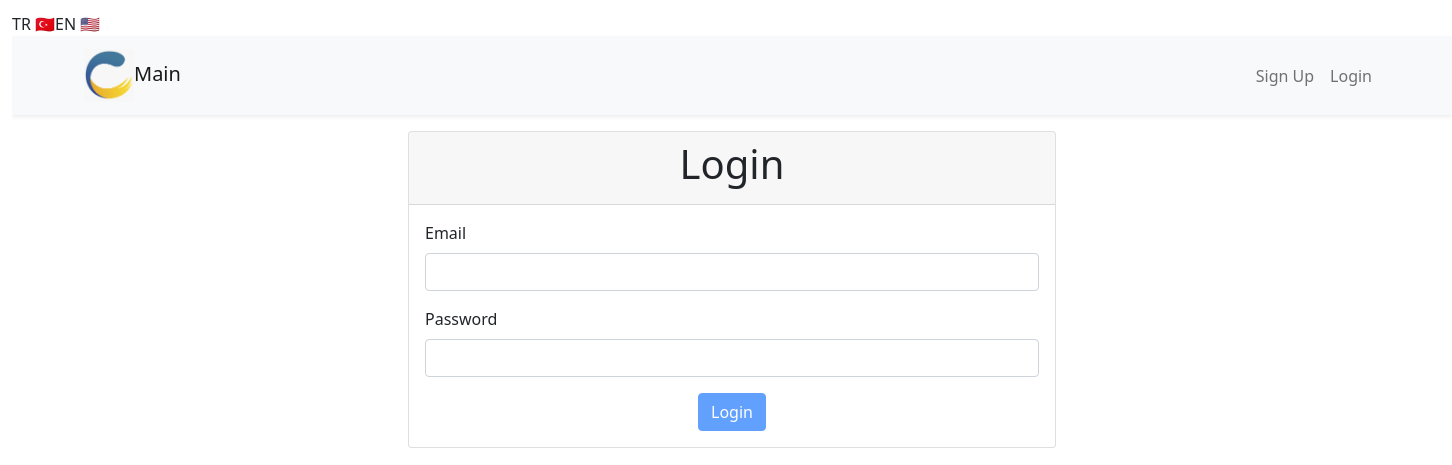
Test: Login › redirects to homepage after successful login
Type "user5@mail.com" into the field labelled "Email" at (732, 272), box [425,253,1039,291]
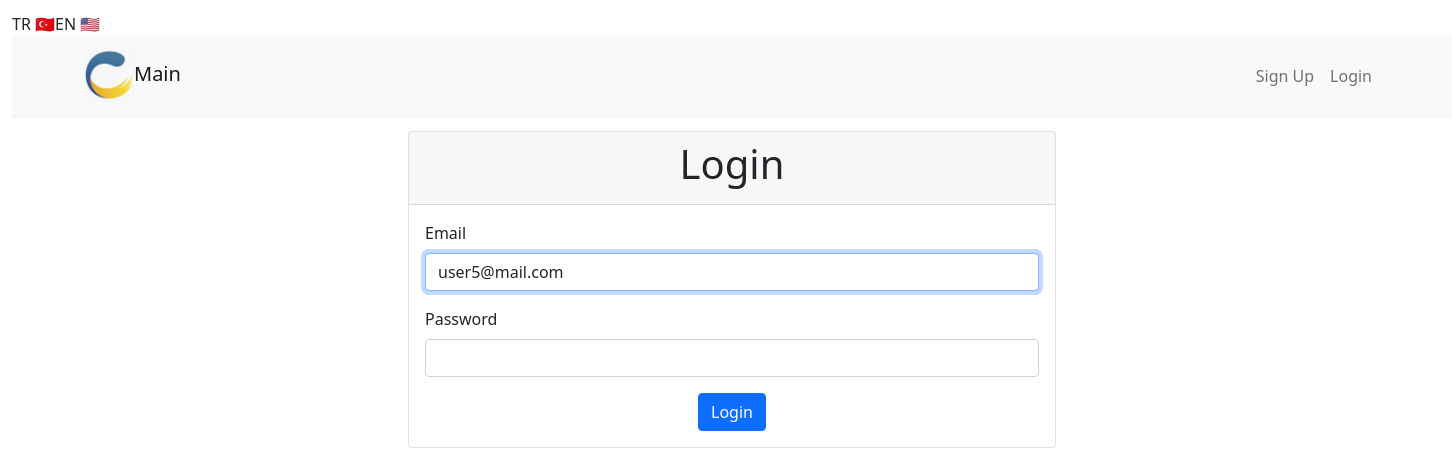
Type "P4ssword" into the password field labelled "Password" at (732, 358), box [425,339,1039,377]
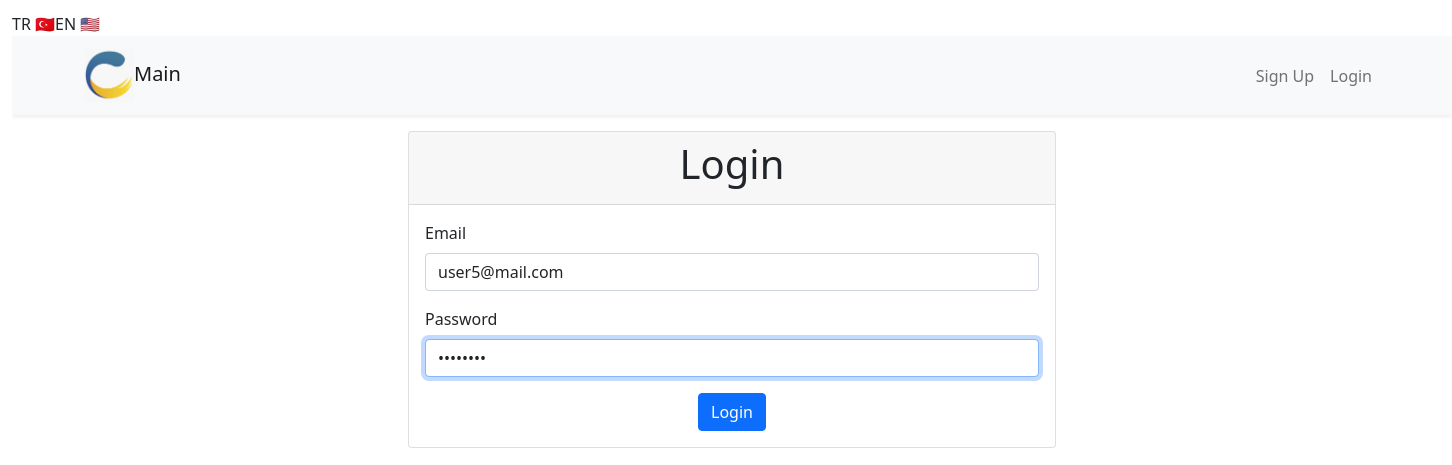
Click the button "Login" at (732, 412), box [698,393,766,431]
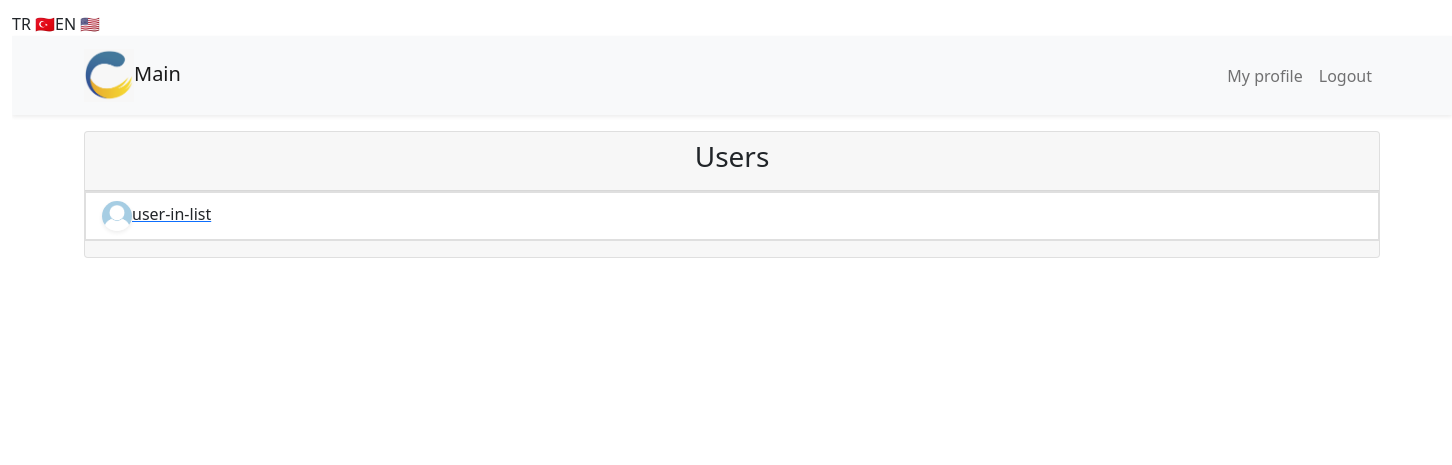
Now the element with test id "home-page" is shown, box [84,131,1380,258]
